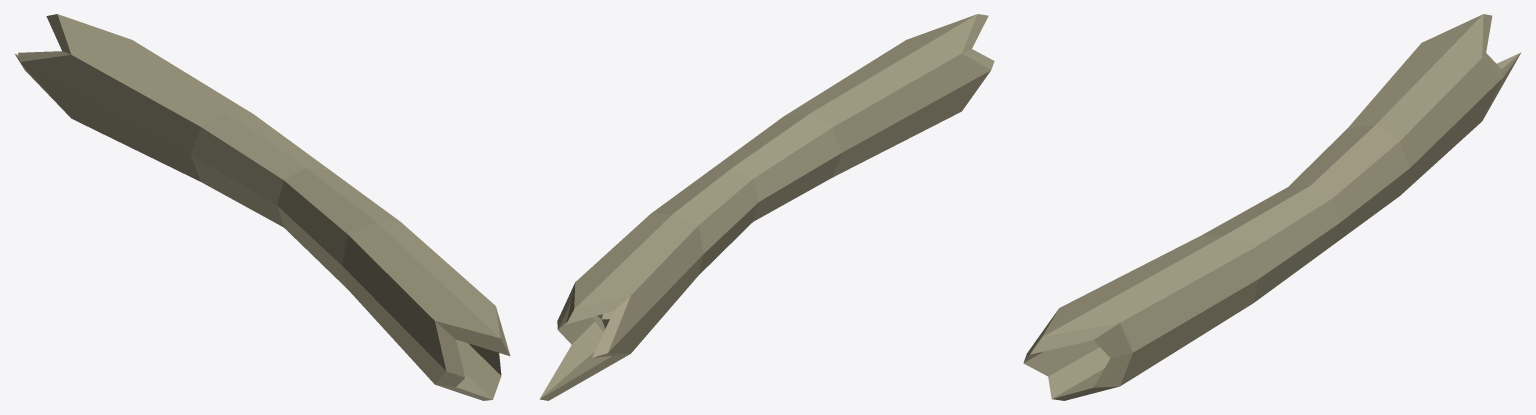
The model's file is dragons_mini_bones.fbx.
3 renders of one model, left to right at view 1: azimuth 30°, elevation 25°; view 2: azimuth 150°, elevation 25°; view 3: azimuth 330°, elevation 25°, orthographic. The views are drawn at different scales.
Parts seen in each view (by area): view 1: Cube.019; view 2: Cube.019; view 3: Cube.019.
Part boxes in pixels (x1,y1,x2,y2): Cube.019: (15,14,510,400); Cube.019: (539,14,994,400); Cube.019: (1023,14,1521,400).
Size of the model in its own units: 103 by 73.38 by 846.
